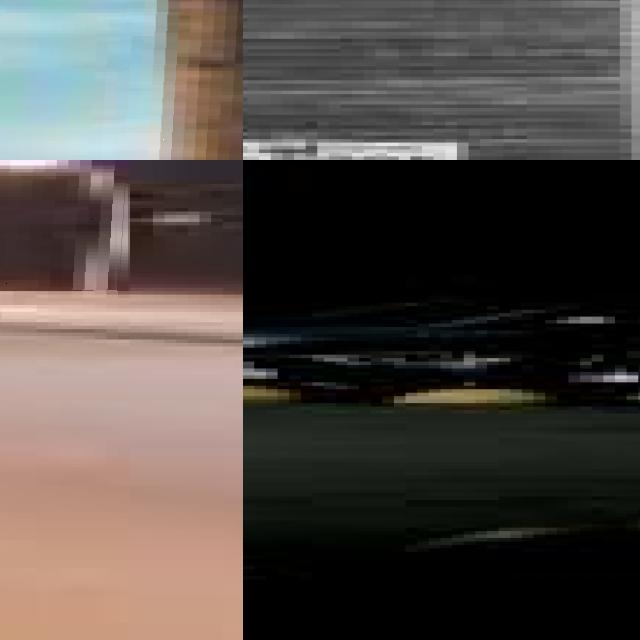street light: (0, 0, 243, 160), (0, 160, 243, 294), (0, 160, 129, 291)
